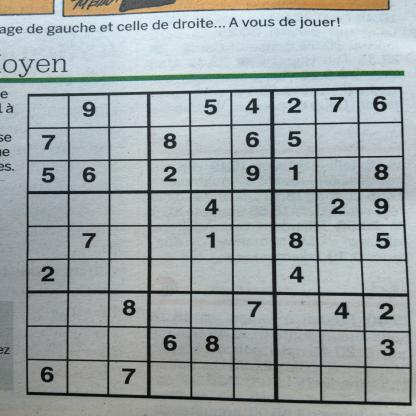sudoku: (18, 83, 415, 408)
